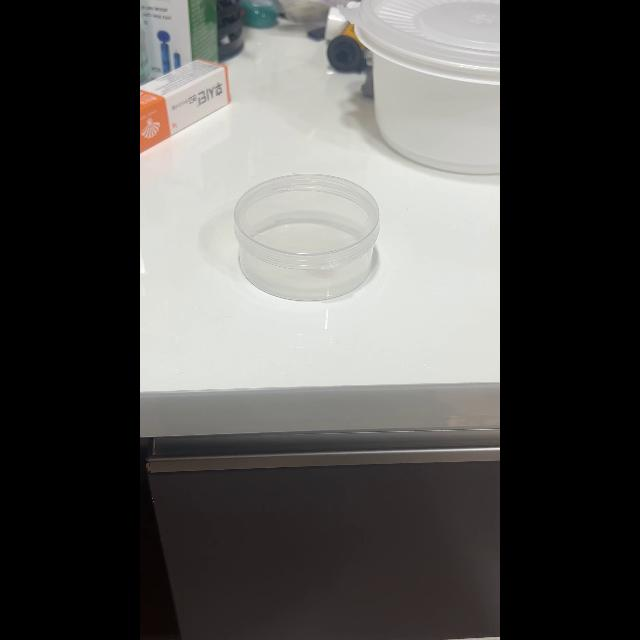clean: (233, 172, 381, 302)
